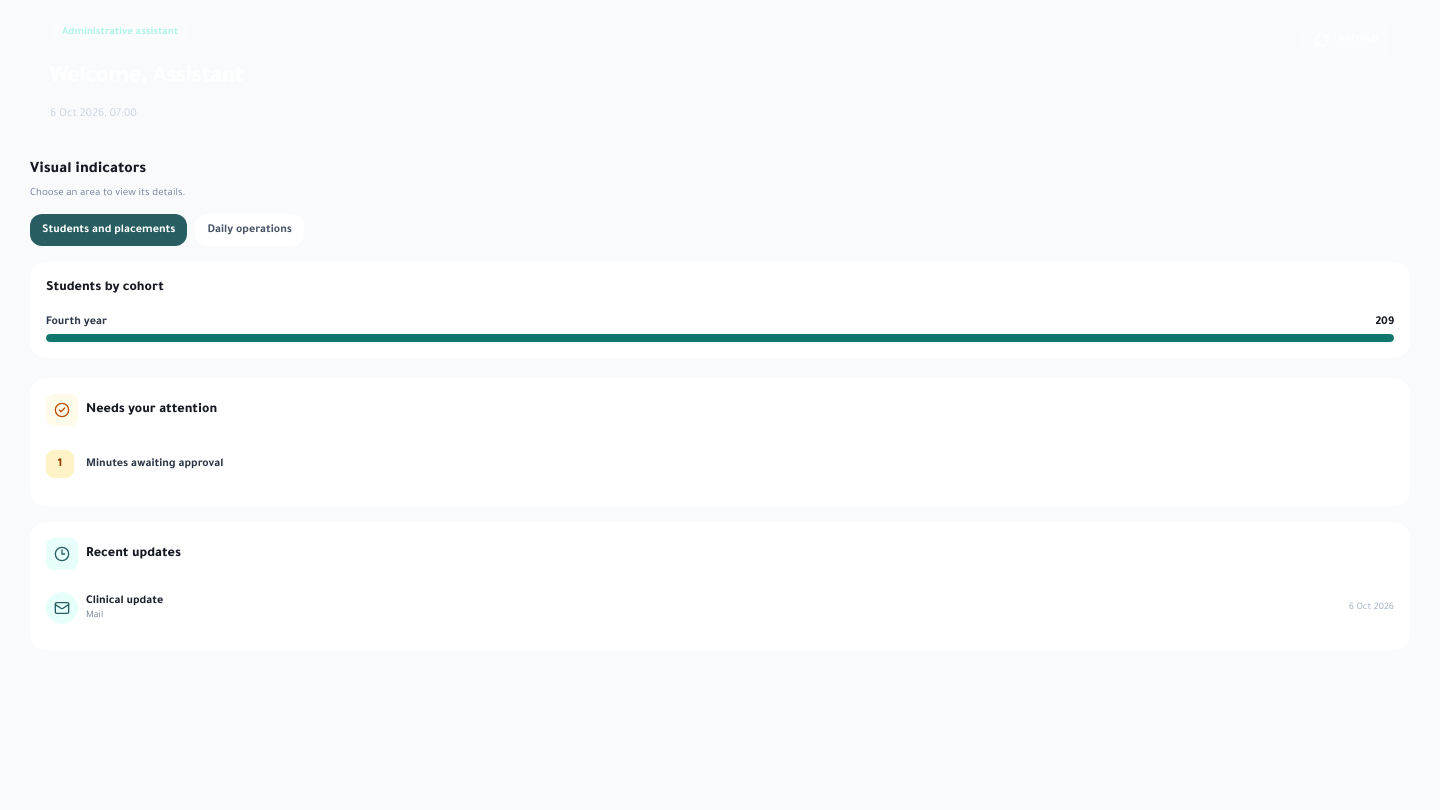
Test: FoundationHome › shows the administrative assistant only the chart areas present in their dashboard data
Expected: the text "Administrative assistant" is shown, [50,21,190,46]
Click the tab "Daily operations" at {"x": 250, "y": 230}, box [195,214,304,246]
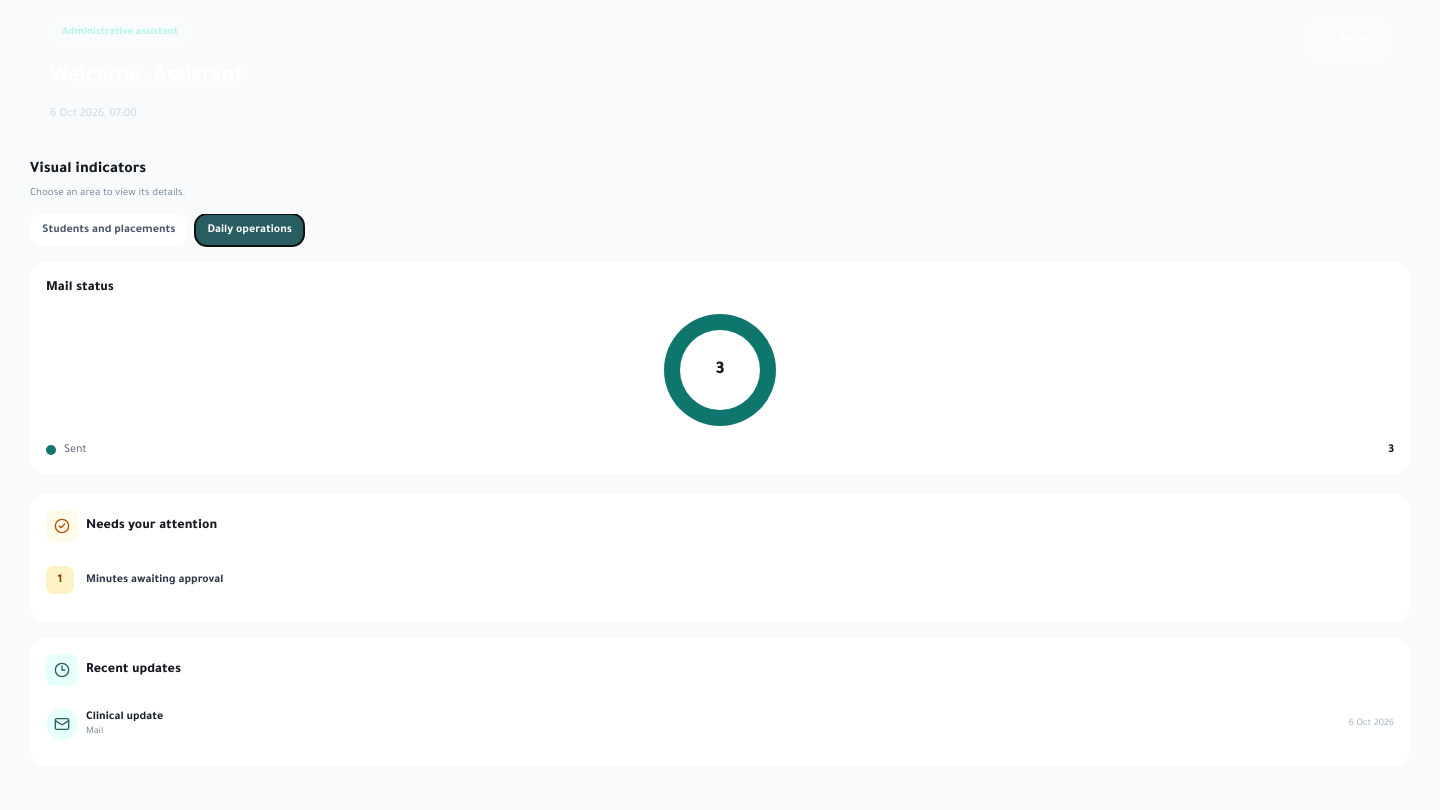
Expected: the element "Needs your attention" shows "Minutes awaiting approval", [46,554,1394,606]
Result: the panel named "Daily operations" shows "Mail status" at [46,281,114,295]
